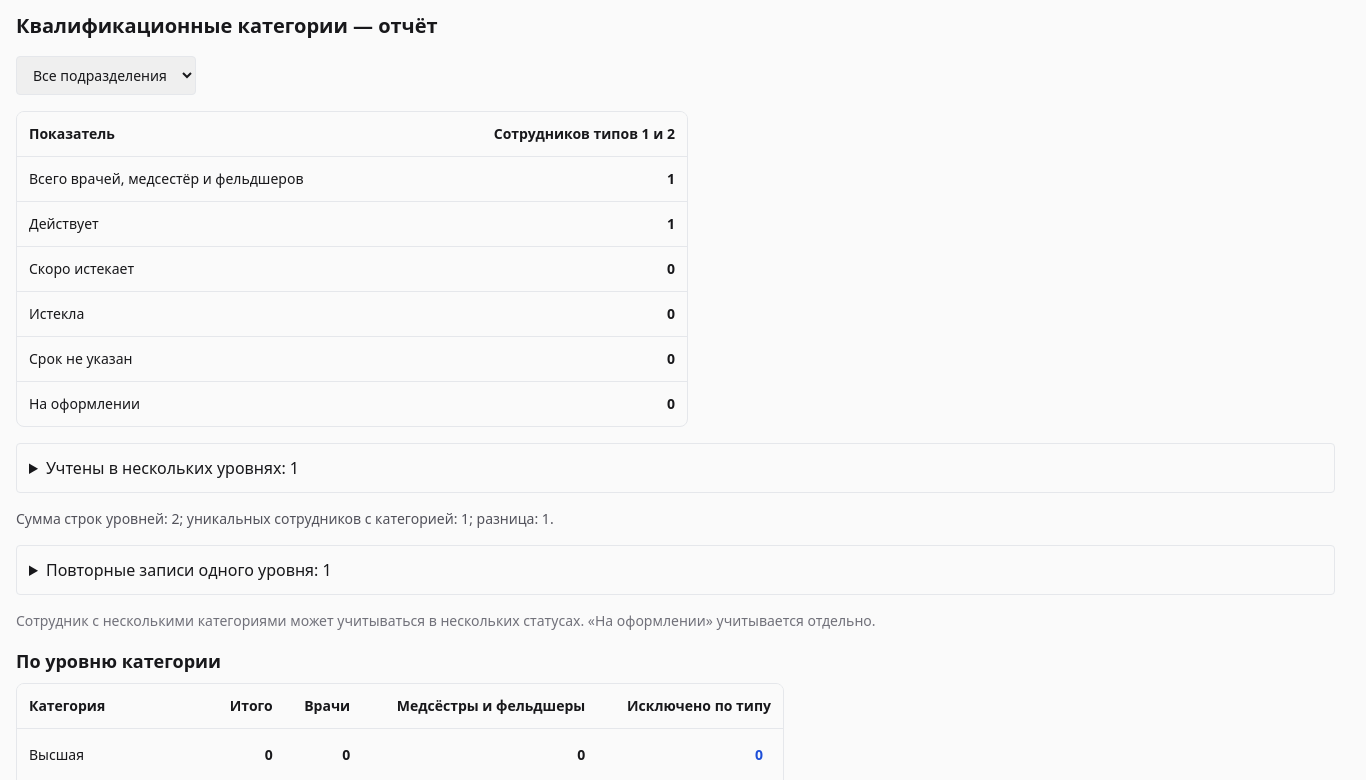
Scenario: discloses every counted level and specialty for a multi-level employee
Expected: the element with test id "qualification-multiple-levels-details" reads "Учтены в нескольких уровнях: 1", [16,443,1335,493]
Expected: the element with test id "qualification-repeated-level-details" reads "Повторные записи одного уровня: 1", [16,545,1335,595]
What coordinates should you click on to do the following:
click the heading "Учтены в нескольких уровнях: 1"
I would click on:
 (172, 468)
Its box is [46,457,299,479].
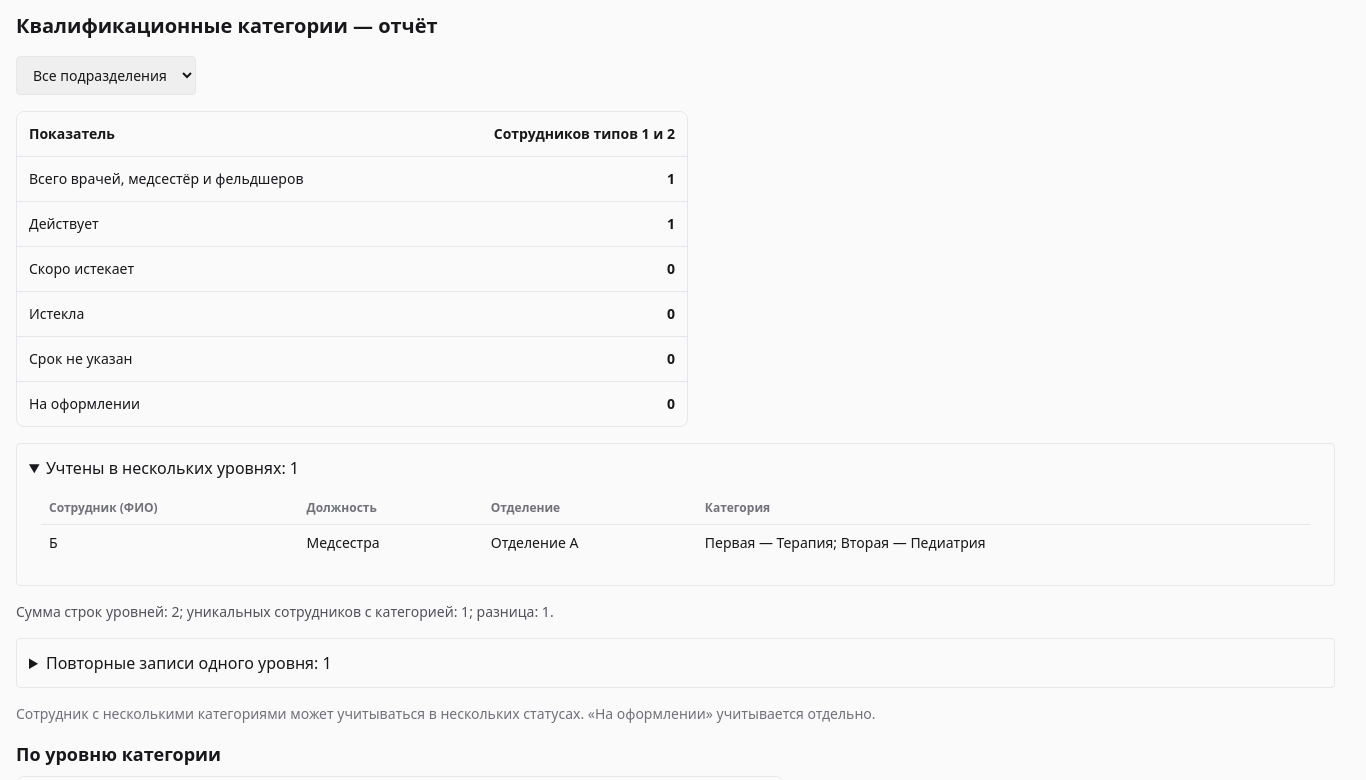
Expected: the text with test id "qualification-level-difference" shows "уникальных сотрудников с категорией: 1", [16,602,554,621]
Expected: the element with test id "qualification-multiple-levels-details" shows "Первая — Терапия", [705,533,986,552]
Expected: the element with test id "qualification-multiple-levels-details" shows "Вторая — Педиатрия", [705,533,986,552]
